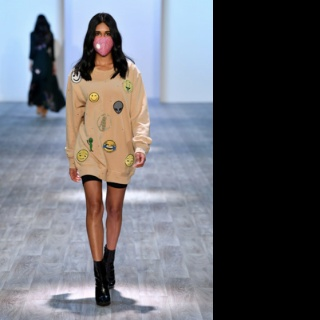with_mask: (92, 28, 115, 56)
